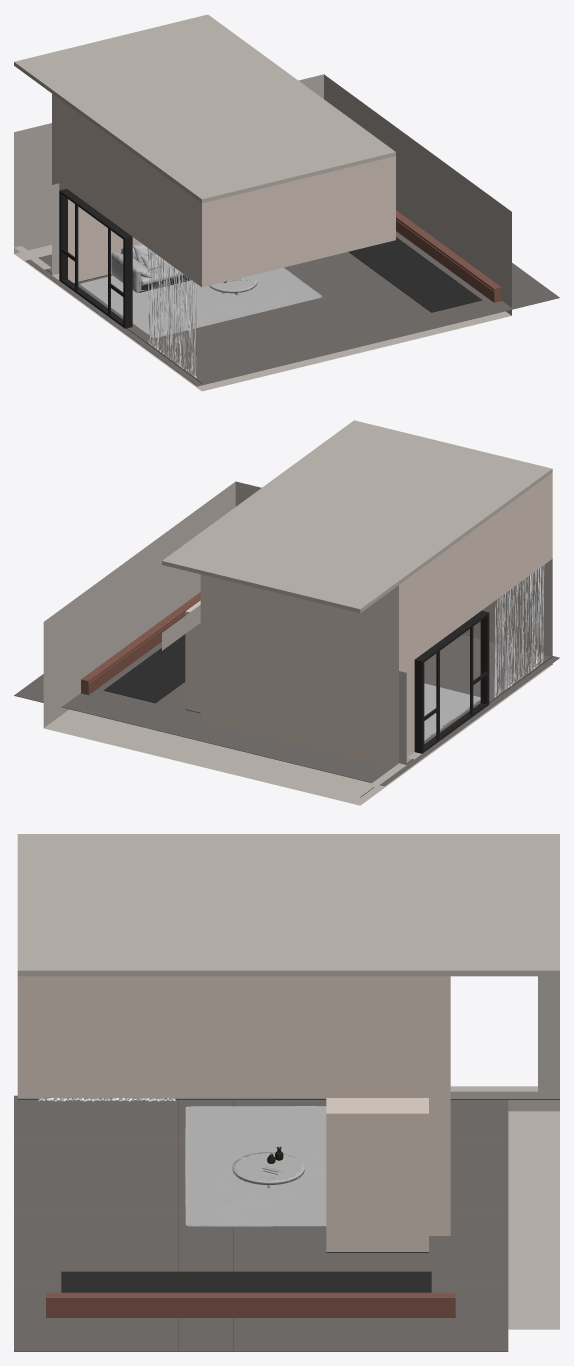
Rendered from living-room.glb.
3 renders of one model, top to bottom at view 1: azimuth 30°, elevation 25°; view 2: azimuth 150°, elevation 25°; view 3: azimuth 270°, elevation 25°, orthographic. The views are drawn at different scales.
Visible parts, largest first — view 1: i2stay0003, i2stay0009, i2stay0022, i2stay0005, i2stay0023, i2stay0038, i2stay0008, i2stay0004, i2stay0002, i2stay0010, i2stay0044, i2stay0062; view 2: i2stay0003, i2stay0022, i2stay0005, i2stay0009, i2stay0023, i2stay0004, i2stay0002, i2stay0008, i2stay0010, i2stay0038, i2stay0025; view 3: i2stay0003, i2stay0009, i2stay0023, i2stay0005, i2stay0025, i2stay0038, i2stay0022, i2stay0010, i2stay0008, i2stay0011, i2stay0062.
Part boxes in pixels (x1=…): i2stay0003: x1=14, y1=14, x2=395, y2=202; i2stay0009: x1=26, y1=231, x2=559, y2=386; i2stay0022: x1=52, y1=94, x2=395, y2=287; i2stay0005: x1=14, y1=74, x2=511, y2=391; i2stay0023: x1=67, y1=105, x2=195, y2=282; i2stay0038: x1=80, y1=267, x2=322, y2=337; i2stay0008: x1=348, y1=237, x2=482, y2=312; i2stay0004: x1=147, y1=248, x2=196, y2=377; i2stay0002: x1=59, y1=188, x2=132, y2=328; i2stay0010: x1=396, y1=210, x2=501, y2=302; i2stay0044: x1=111, y1=252, x2=153, y2=292; i2stay0062: x1=209, y1=275, x2=257, y2=293; i2stay0003: x1=162, y1=420, x2=552, y2=613; i2stay0022: x1=200, y1=473, x2=552, y2=767; i2stay0005: x1=43, y1=481, x2=552, y2=805; i2stay0009: x1=14, y1=635, x2=559, y2=786; i2stay0023: x1=414, y1=478, x2=545, y2=659; i2stay0004: x1=494, y1=565, x2=544, y2=697; i2stay0002: x1=414, y1=610, x2=489, y2=753; i2stay0008: x1=103, y1=634, x2=185, y2=703; i2stay0010: x1=81, y1=592, x2=200, y2=695; i2stay0038: x1=424, y1=683, x2=480, y2=740; i2stay0025: x1=185, y1=600, x2=200, y2=712; i2stay0003: x1=17, y1=834, x2=559, y2=976; i2stay0009: x1=14, y1=1095, x2=508, y2=1351; i2stay0023: x1=35, y1=976, x2=406, y2=1097; i2stay0005: x1=17, y1=976, x2=559, y2=1329; i2stay0025: x1=326, y1=1098, x2=428, y2=1251; i2stay0038: x1=185, y1=1106, x2=326, y2=1226; i2stay0022: x1=17, y1=976, x2=450, y2=1235; i2stay0010: x1=46, y1=1292, x2=455, y2=1317; i2stay0008: x1=61, y1=1271, x2=431, y2=1292; i2stay0011: x1=17, y1=973, x2=450, y2=976; i2stay0062: x1=232, y1=1152, x2=304, y2=1184.
Bounding box in the file's own units: 9.71 × 4.89 × 8.74.
